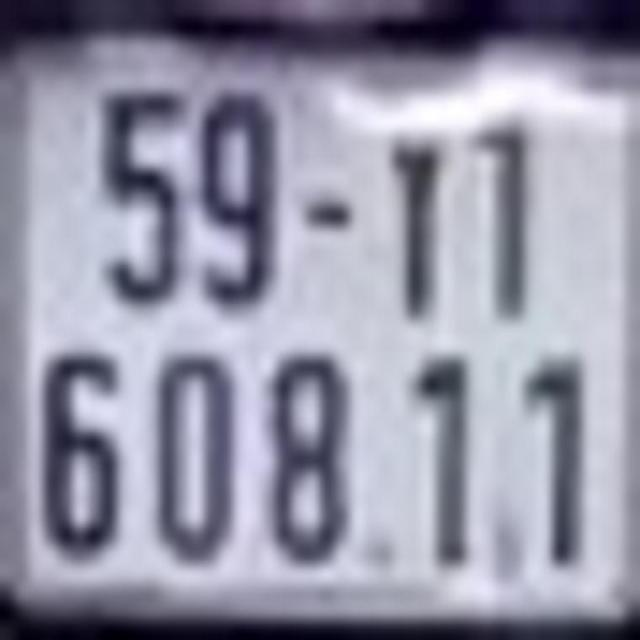0: (146, 338, 242, 578)
1: (520, 345, 594, 562), (414, 353, 484, 569), (472, 108, 534, 316)
5: (100, 90, 184, 301)
6: (28, 350, 126, 558)
8: (266, 345, 360, 584)
9: (192, 90, 282, 306)
Y: (367, 89, 457, 329)
